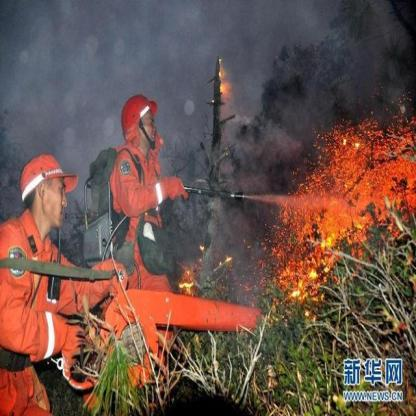fire: (270, 107, 414, 277)
other: (18, 94, 239, 378)
